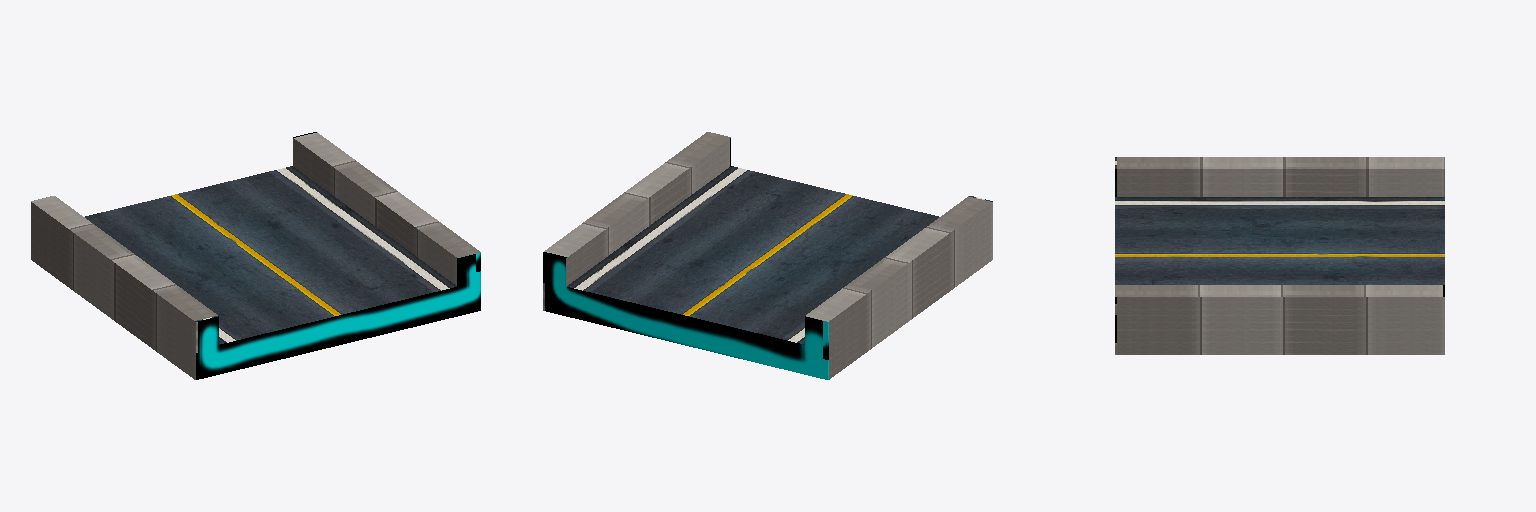
3 views of the same model, side by side, from view 1: azimuth 30°, elevation 25°; view 2: azimuth 150°, elevation 25°; view 3: azimuth 270°, elevation 25° (orthographic).
Visible parts, largest first — view 1: Cube; view 2: Cube; view 3: Cube.
Part boxes in pixels (bbox=[...]): Cube: bbox=[31, 132, 480, 379]; Cube: bbox=[543, 132, 992, 379]; Cube: bbox=[1115, 157, 1444, 354].
Size of the model in its own units: 2 by 0.3905 by 2.
1 materials, 1 textured.